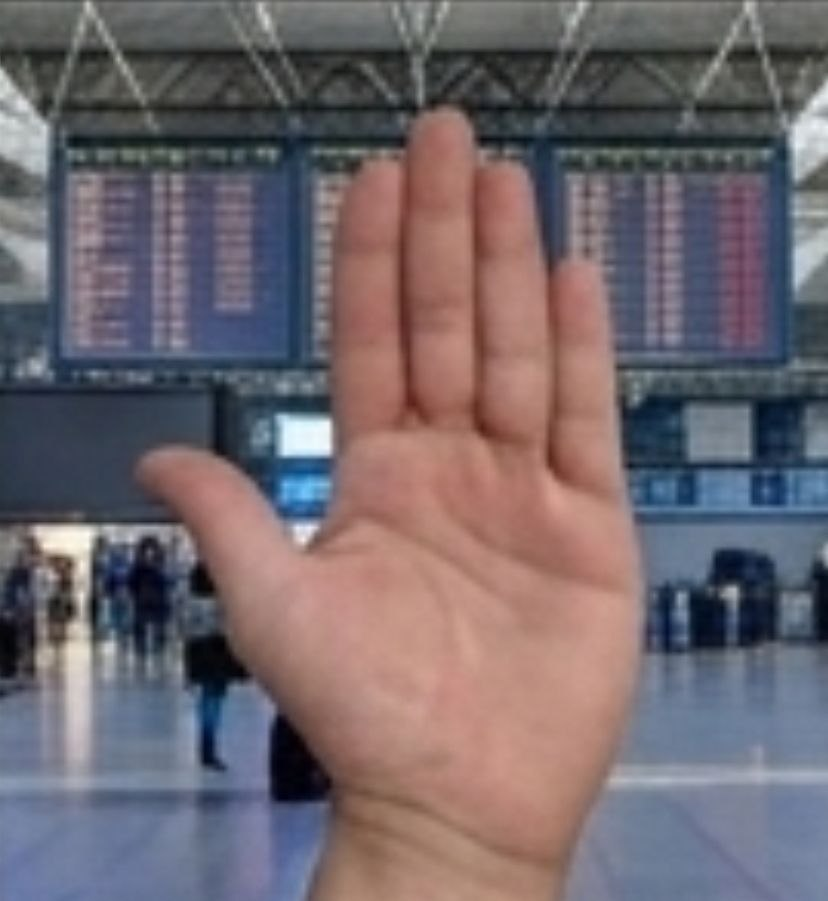Palm: (119, 78, 665, 872)
